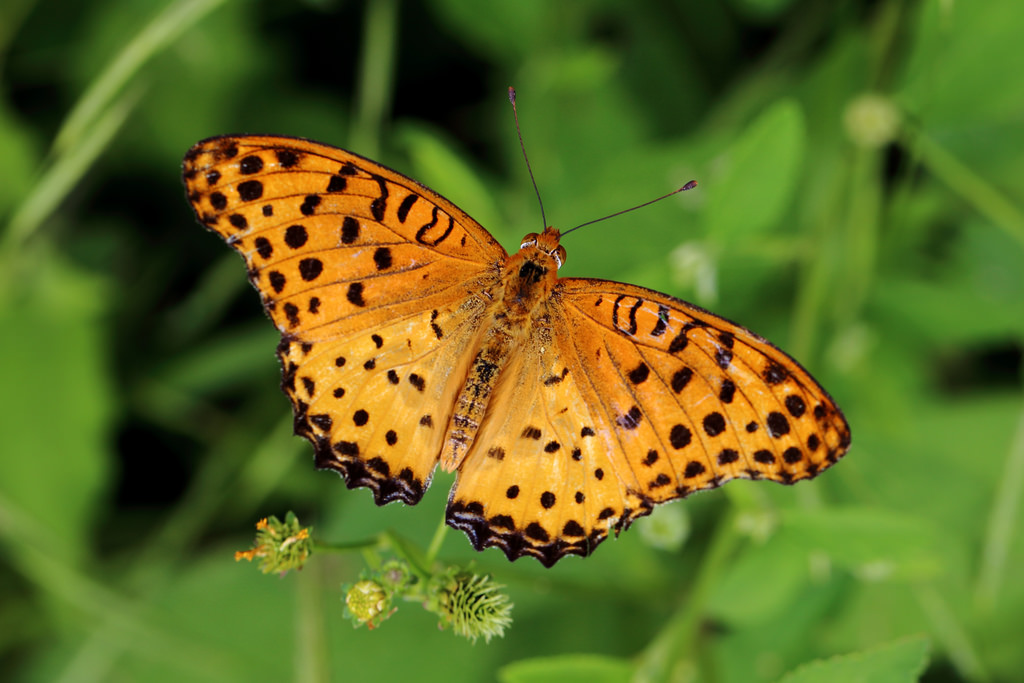Argyreus hyperbius: (177, 78, 853, 570)
butterfly: (179, 80, 855, 572)
